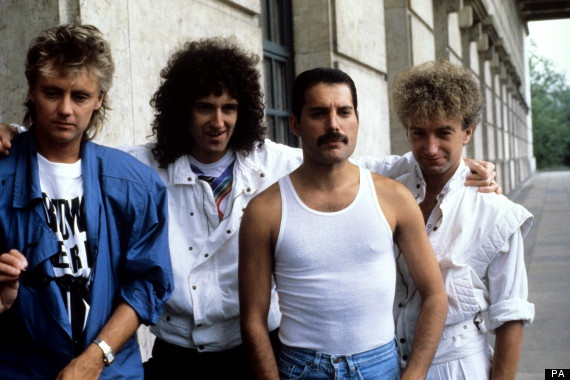bad: (183, 94, 246, 156), (31, 80, 93, 142), (301, 94, 363, 156)
